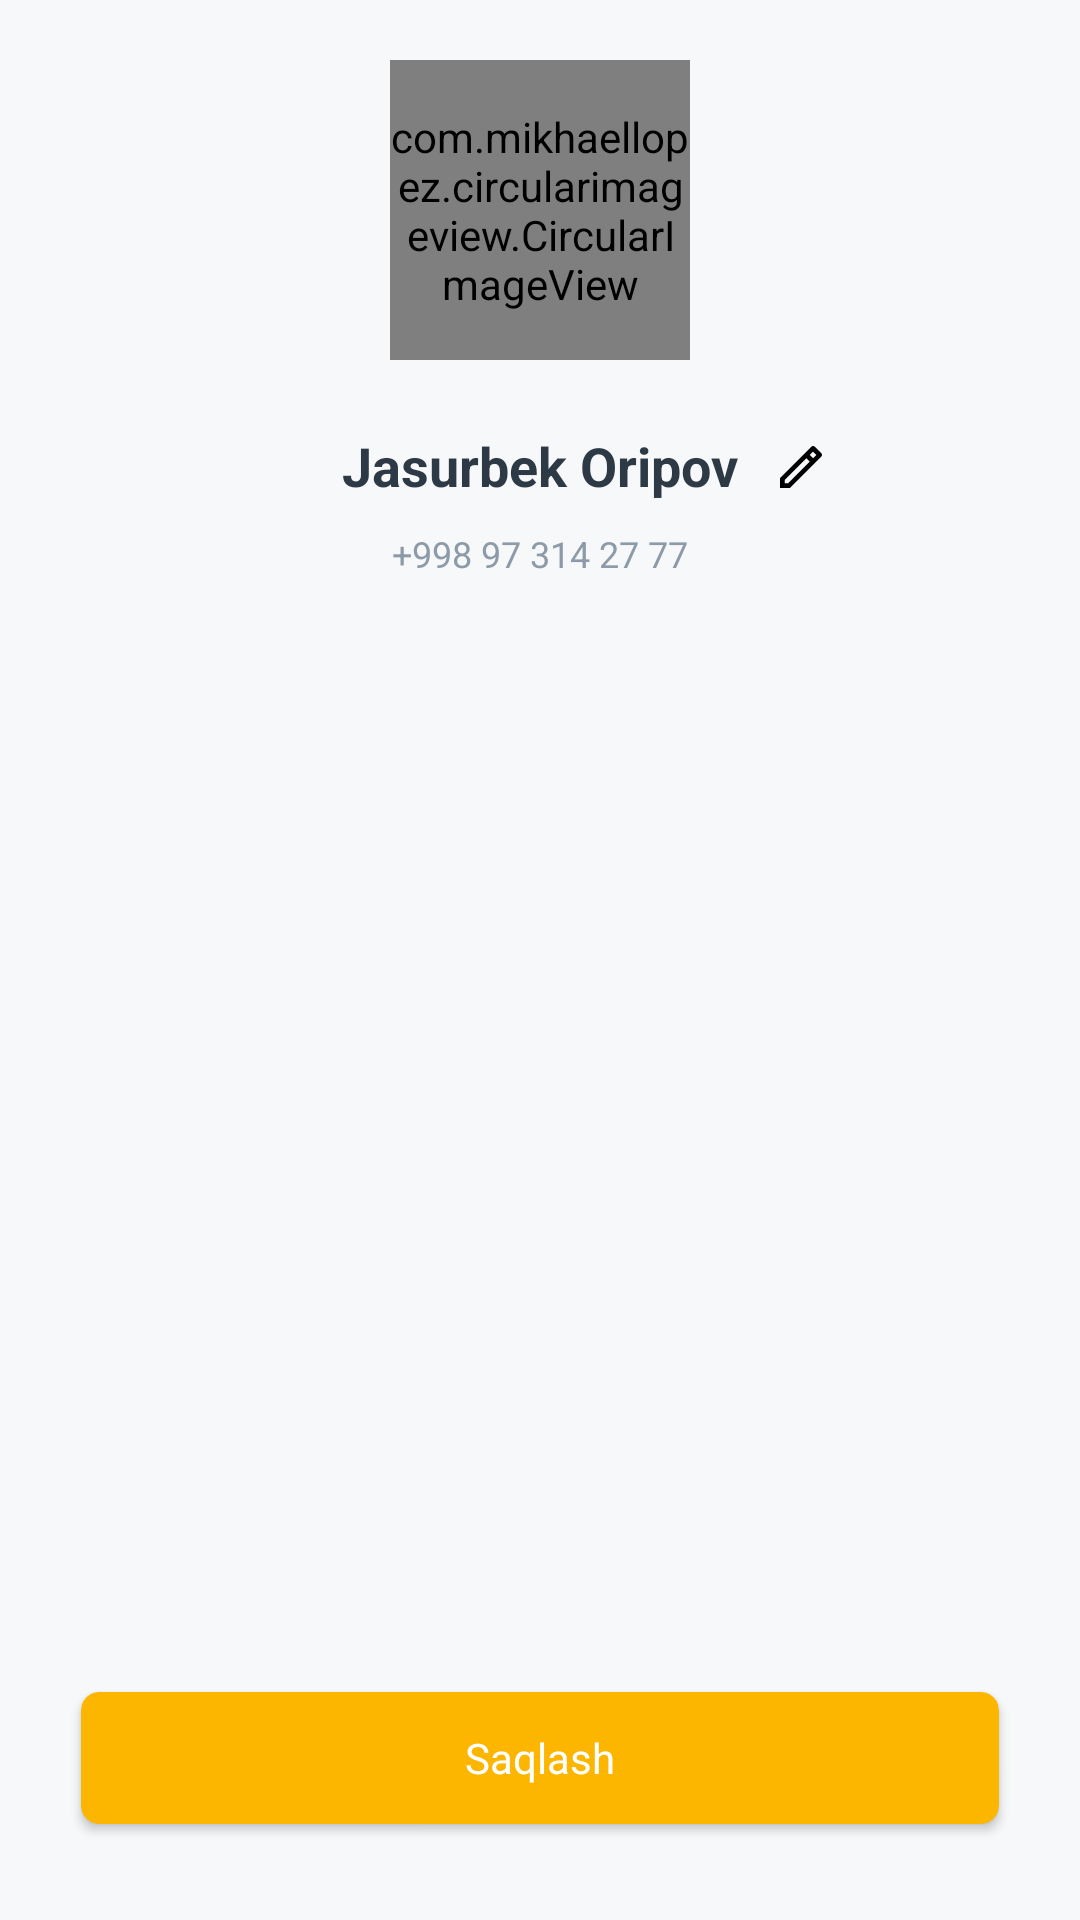

Where to tap for icons on this 1080px×1920px app screen, as [x,y]:
curier pen: [801,467]
